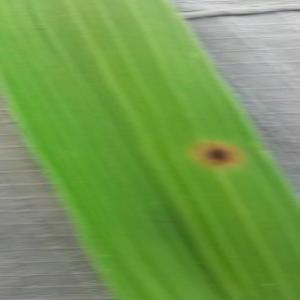Brown_Spot: (183, 131, 245, 176)
